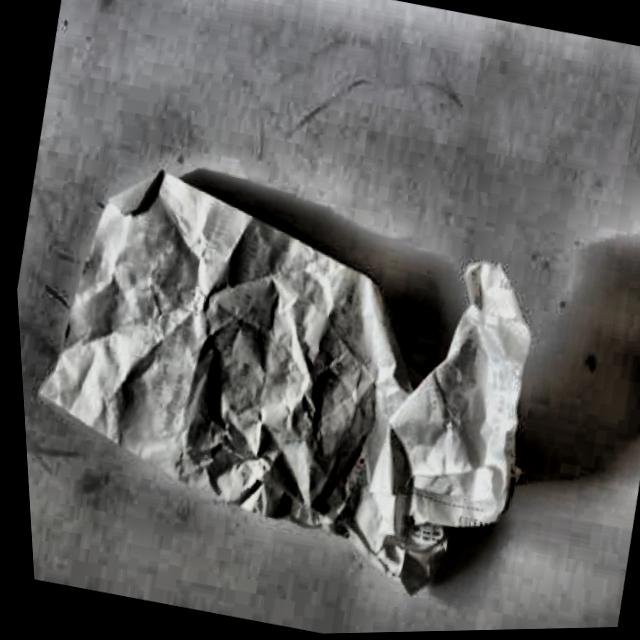Paper: (6, 127, 590, 640)
